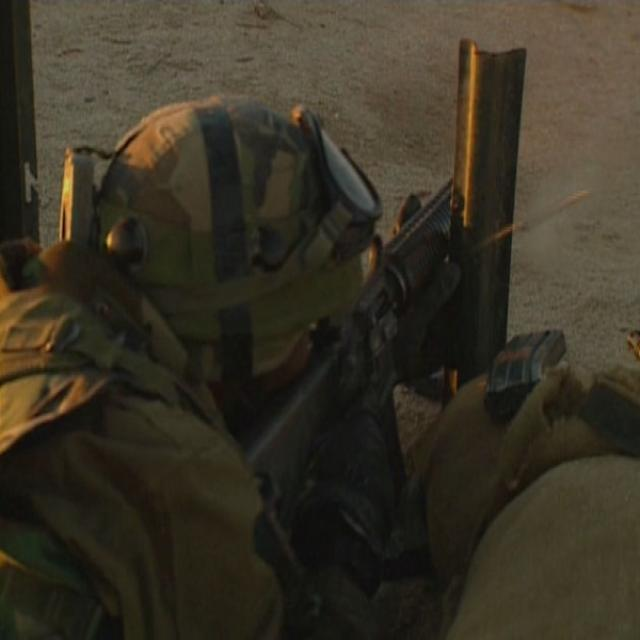rifle: (237, 175, 474, 569)
